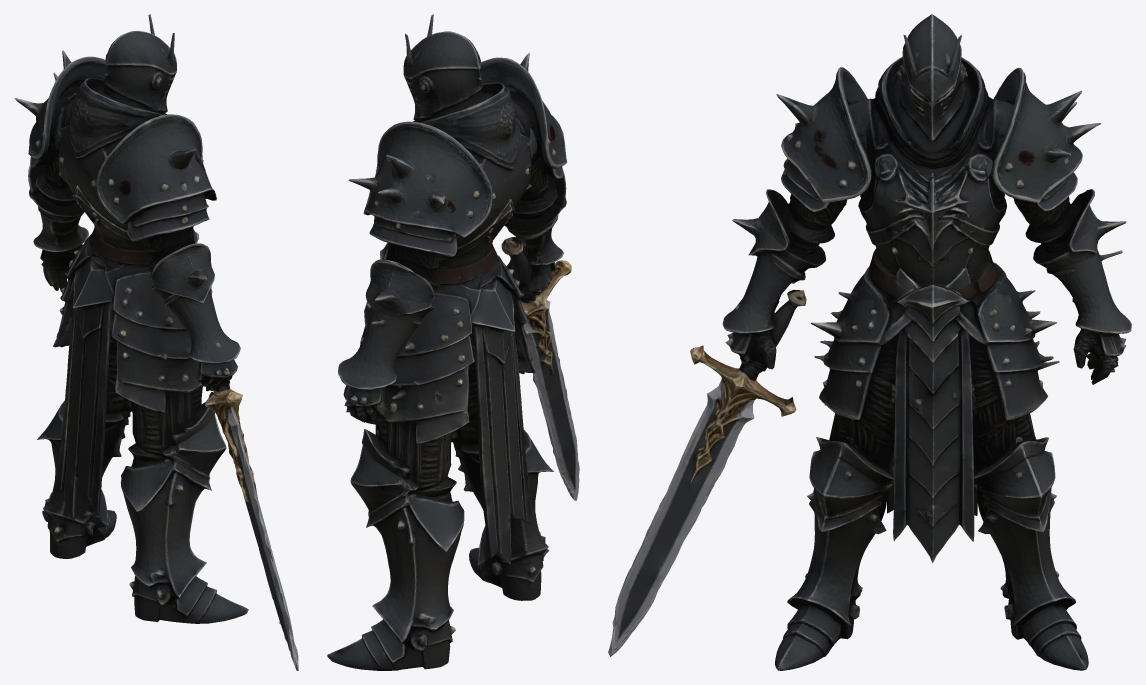
Rendered from dark+knight+3d+model.fbx.
The picture shows the model from 3 angles, left to right: view 1: azimuth 30°, elevation 25°; view 2: azimuth 150°, elevation 25°; view 3: azimuth 270°, elevation 25°; orthographic projection. The views are drawn at different scales.
Parts seen in each view (by area): view 1: tripo_node_df7ba076; view 2: tripo_node_df7ba076; view 3: tripo_node_df7ba076.
Part boxes in pixels (x1,y1,x2,y2): tripo_node_df7ba076: [14, 14, 298, 670]; tripo_node_df7ba076: [327, 14, 579, 670]; tripo_node_df7ba076: [608, 14, 1131, 670].
Bounding box in the file's own units: 0.2496 × 0.9977 × 0.7536.
1 material, 1 textured.
